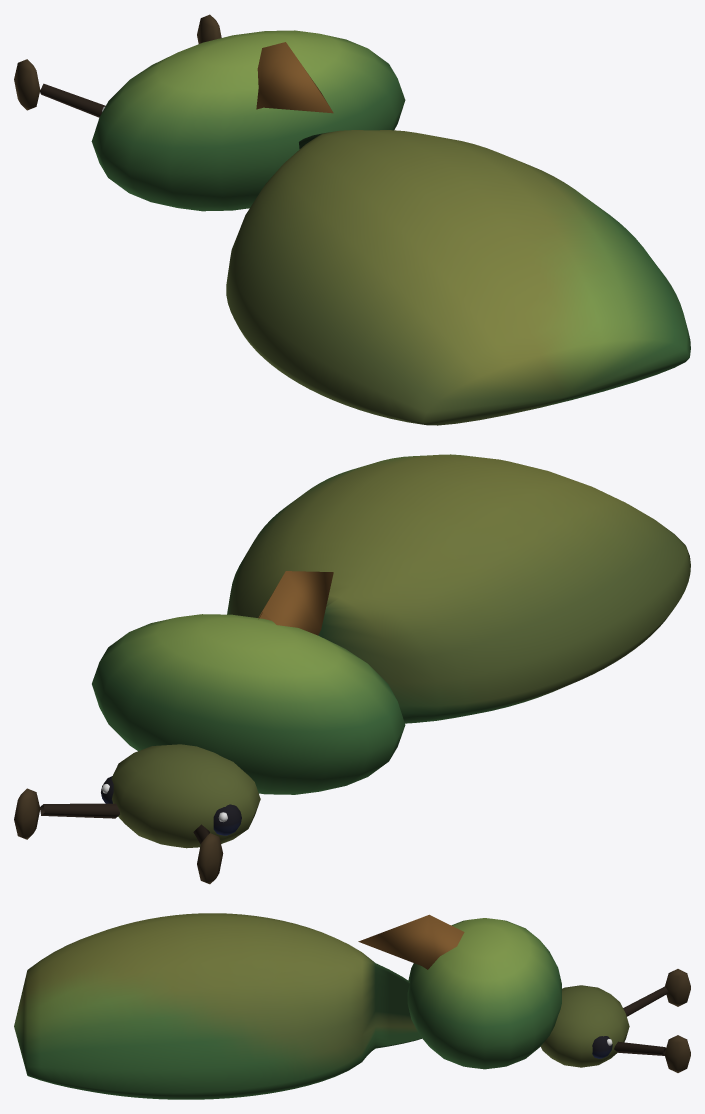
Rendered from Kanabun.fbx.
3 views of the same model, one above another, from view 1: azimuth 30°, elevation 25°; view 2: azimuth 150°, elevation 25°; view 3: azimuth 270°, elevation 25° (orthographic). The views are drawn at different scales.
Visible parts, largest first — view 1: Kanabun; view 2: Kanabun; view 3: Kanabun.
Part boxes in pixels (x1,y1,x2,y2): Kanabun: (14, 14, 690, 425); Kanabun: (14, 454, 690, 884); Kanabun: (14, 913, 690, 1099).
Bounding box in the file's own units: 0.52 × 0.2643 × 1.12.
